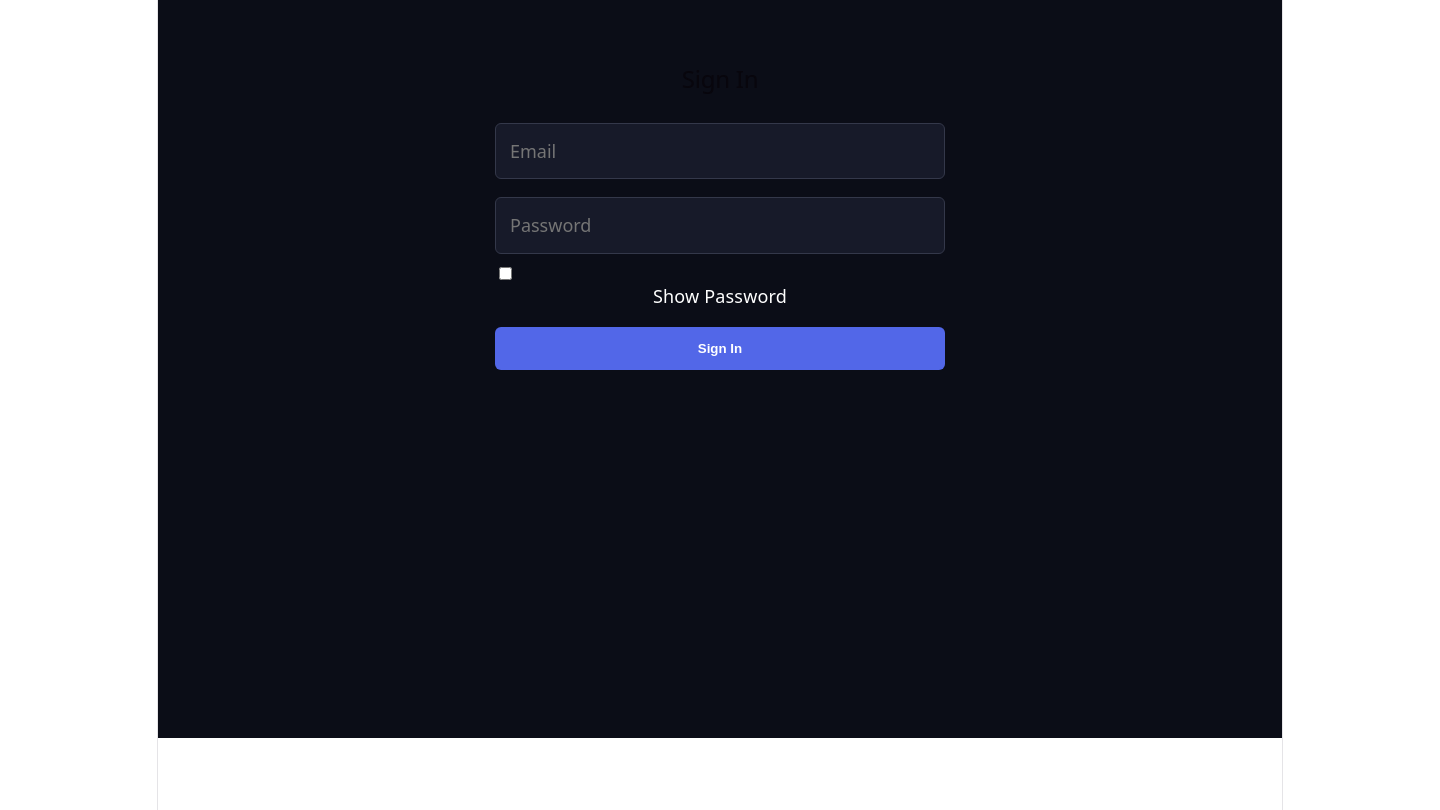
Test case: SignIn Component › sucessfully logs in when a valid credentials are submitted
In the field with placeholder "Email": x=720, y=151 [495,123,945,179], type "test@example.com"
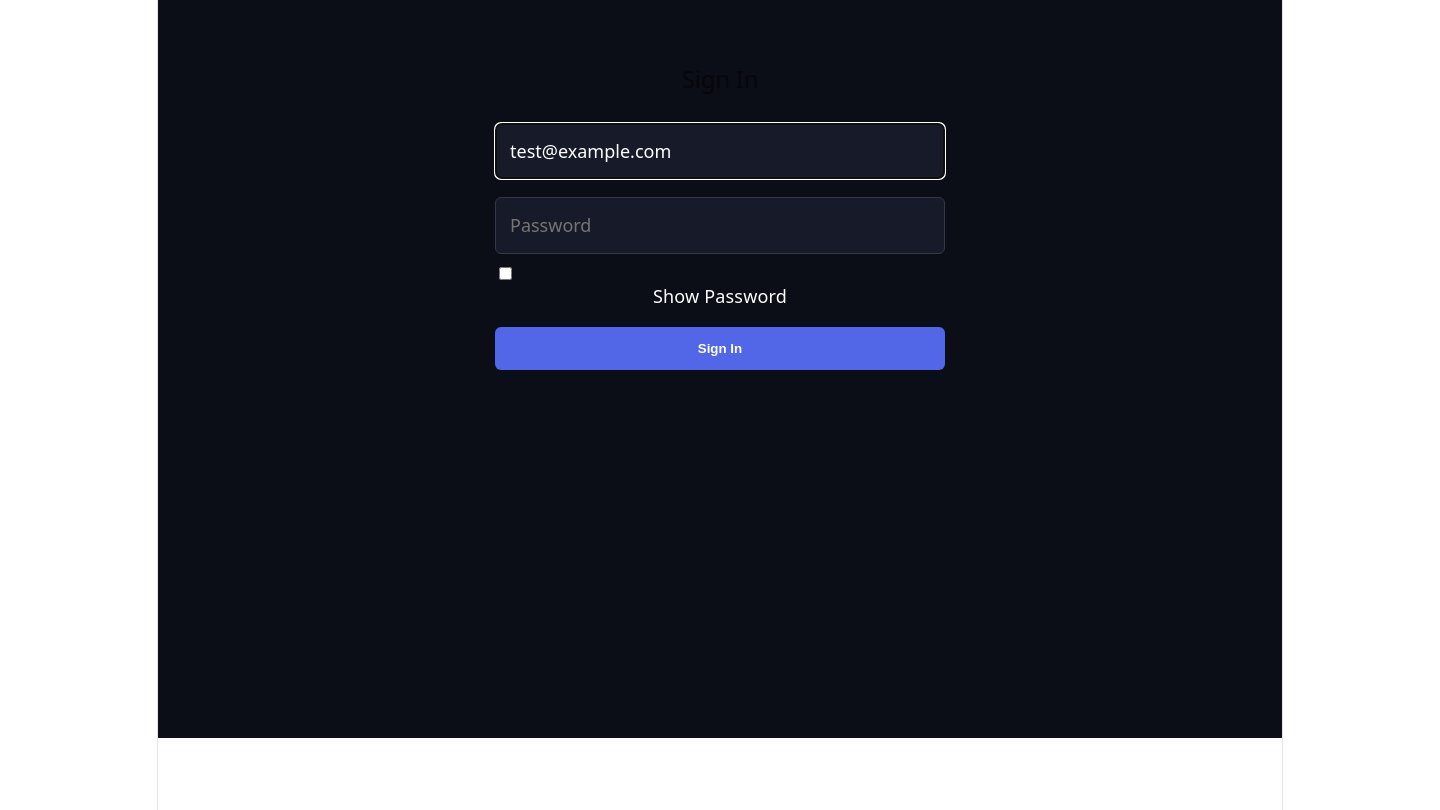
In the password field with placeholder "Password": x=720, y=225 [495,197,945,254], type "TestPassword123!"
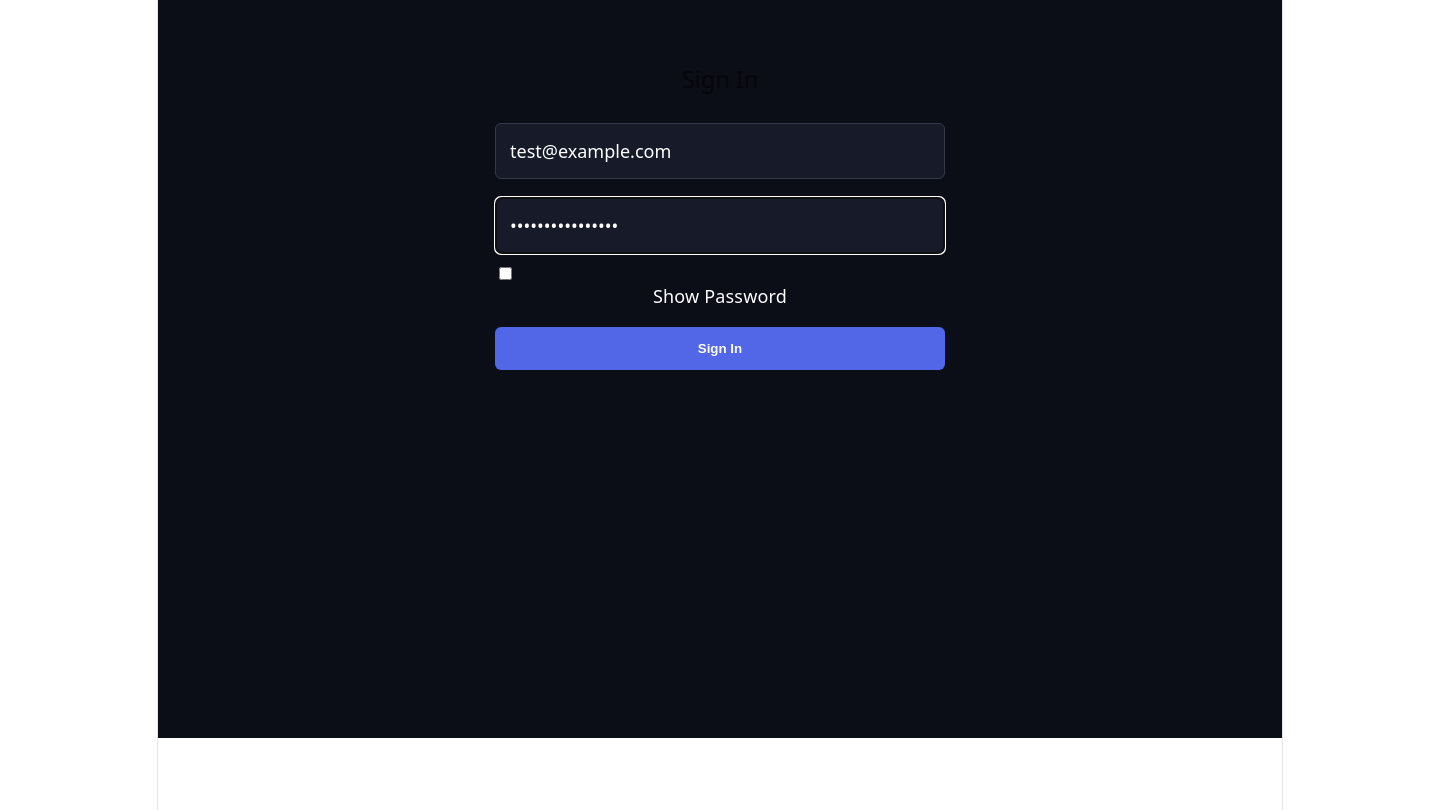
Click the button "Sign In": x=720, y=348 [495,327,945,370]
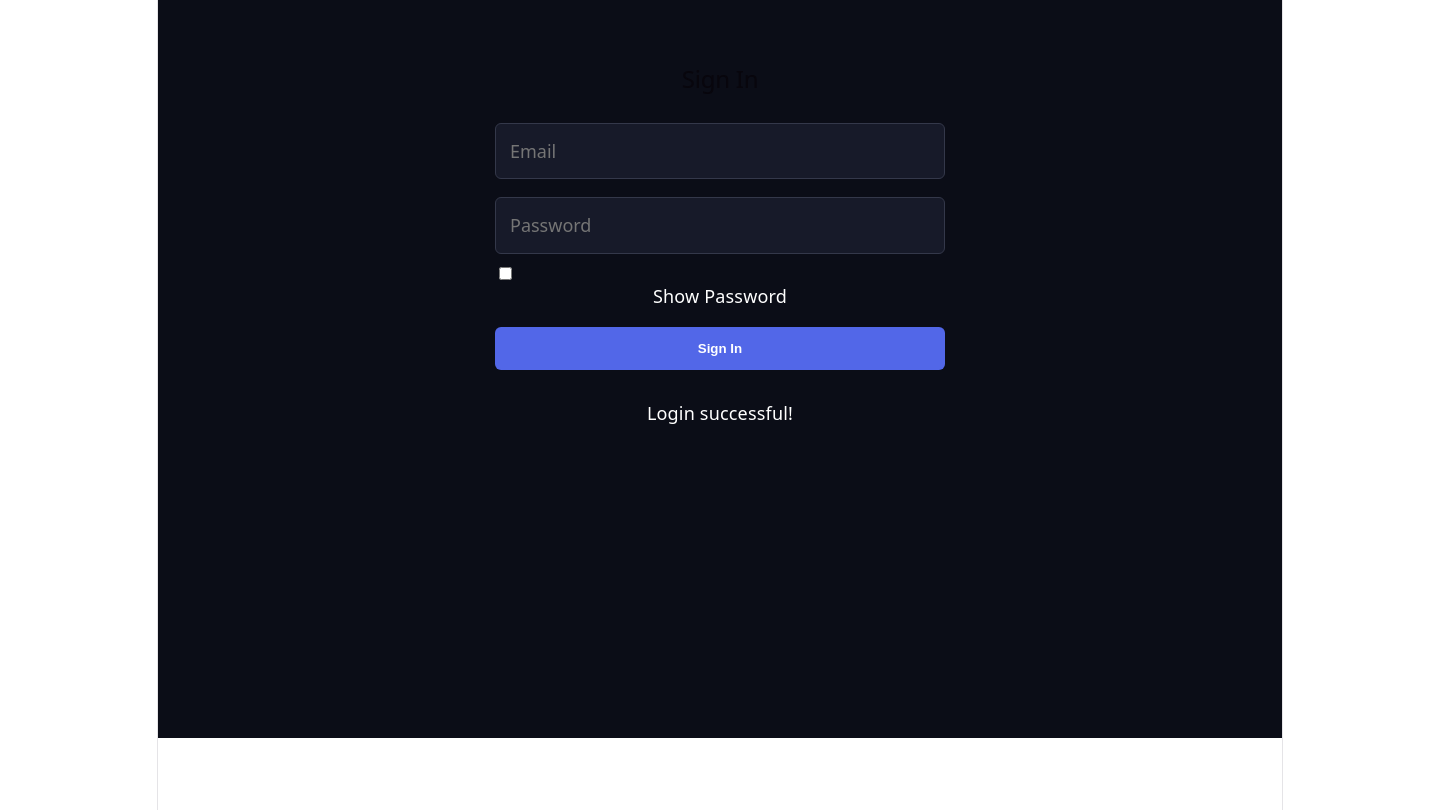
Check: the message reads "Login successful!", box [647,401,793,425]
